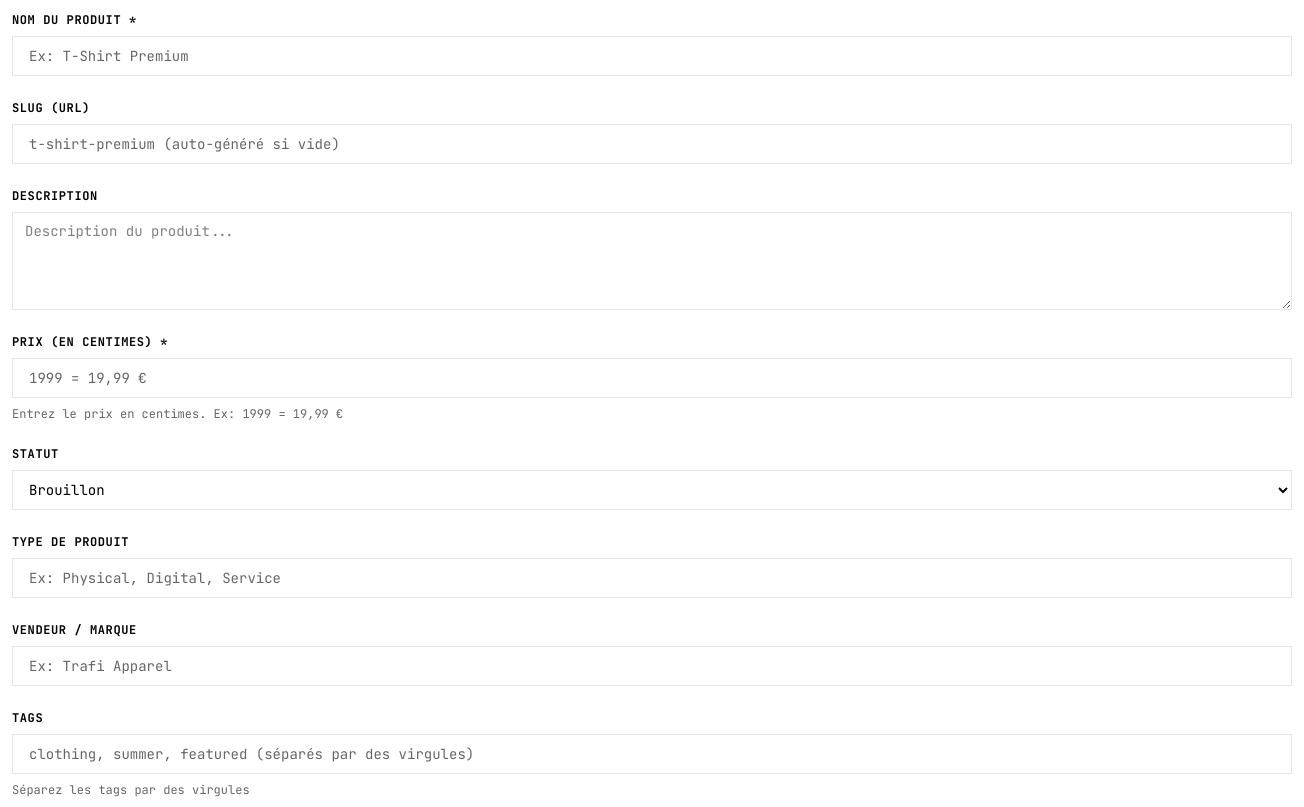
Test: ProductForm › Create Mode › validates slug format on blur
# Type invalid slug (uppercase and special chars)
Type "INVALID!" into the field with test id "product-slug-input" at (652, 144), box [12,124,1292,164]
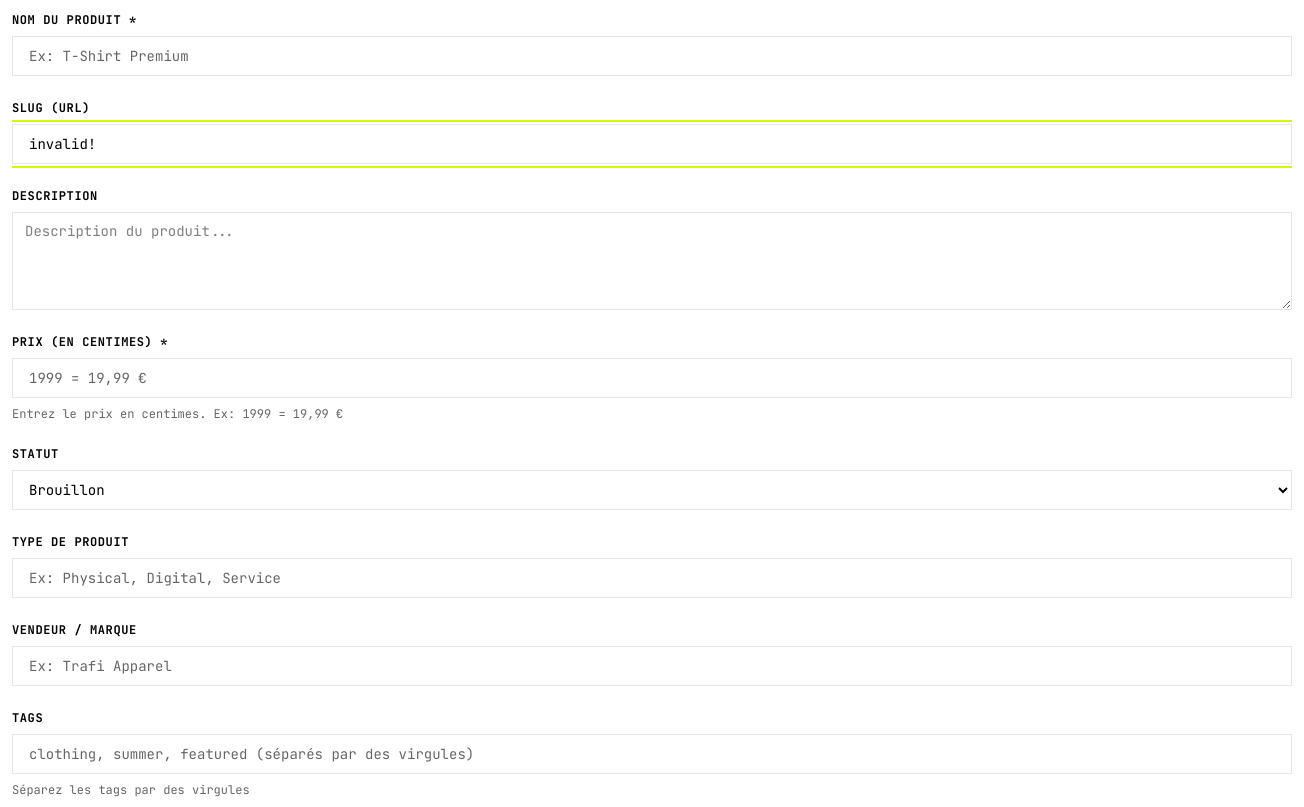
Leave the field with test id "product-slug-input", box [12,124,1292,164]
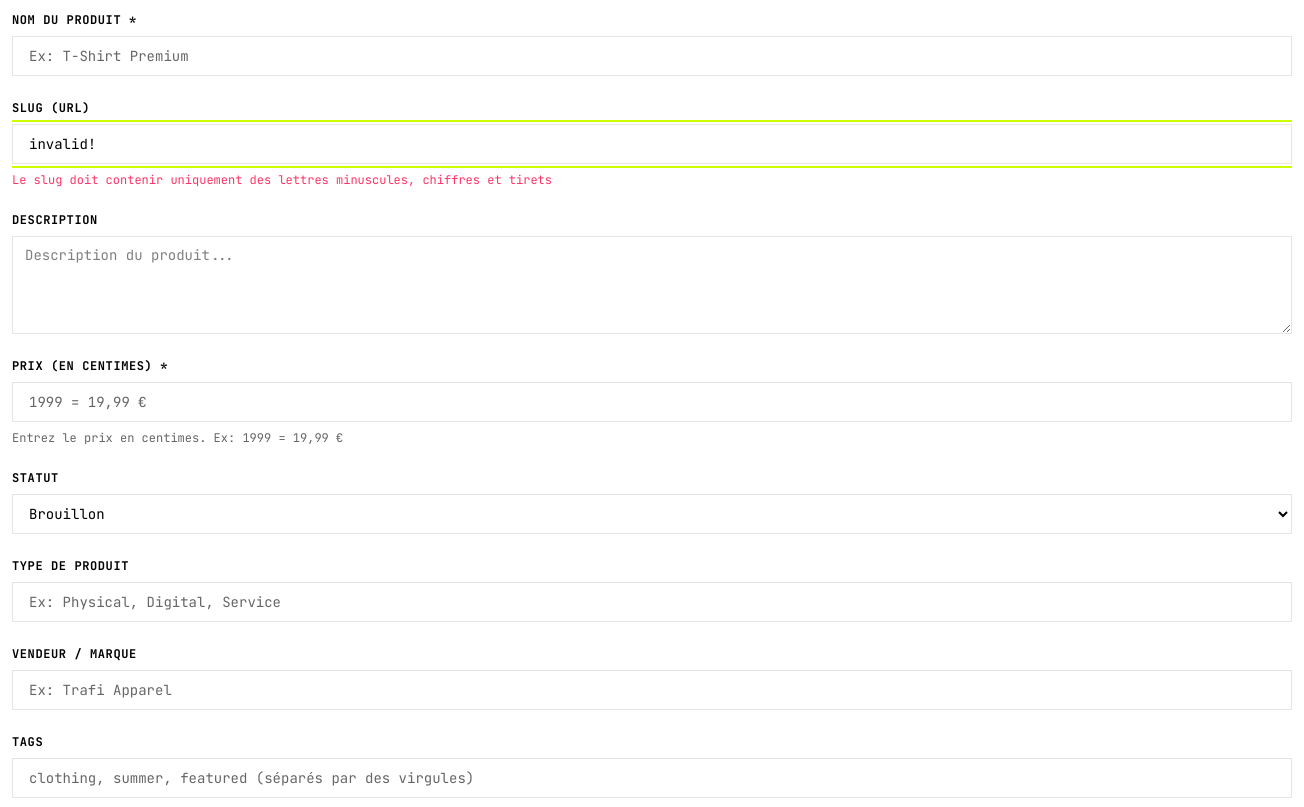
Now the text "Le slug doit contenir uniquement" is shown, box [12,172,552,188]
